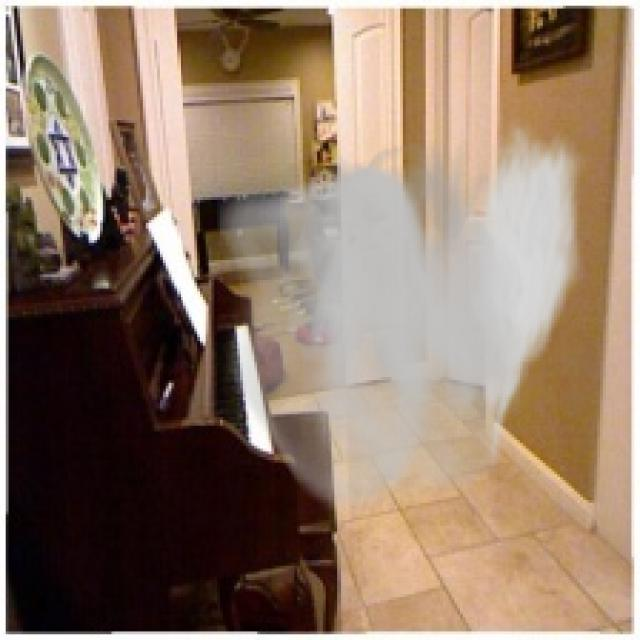smoke: (217, 117, 586, 523)
